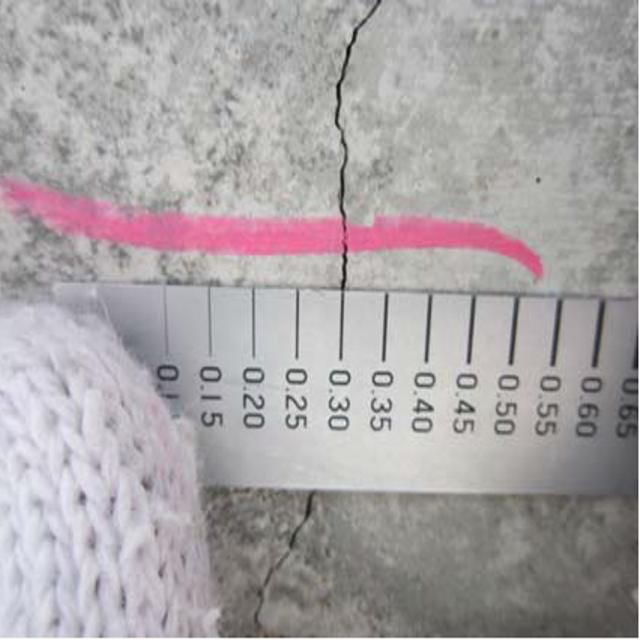crack: (320, 0, 388, 281), (235, 495, 322, 640)
